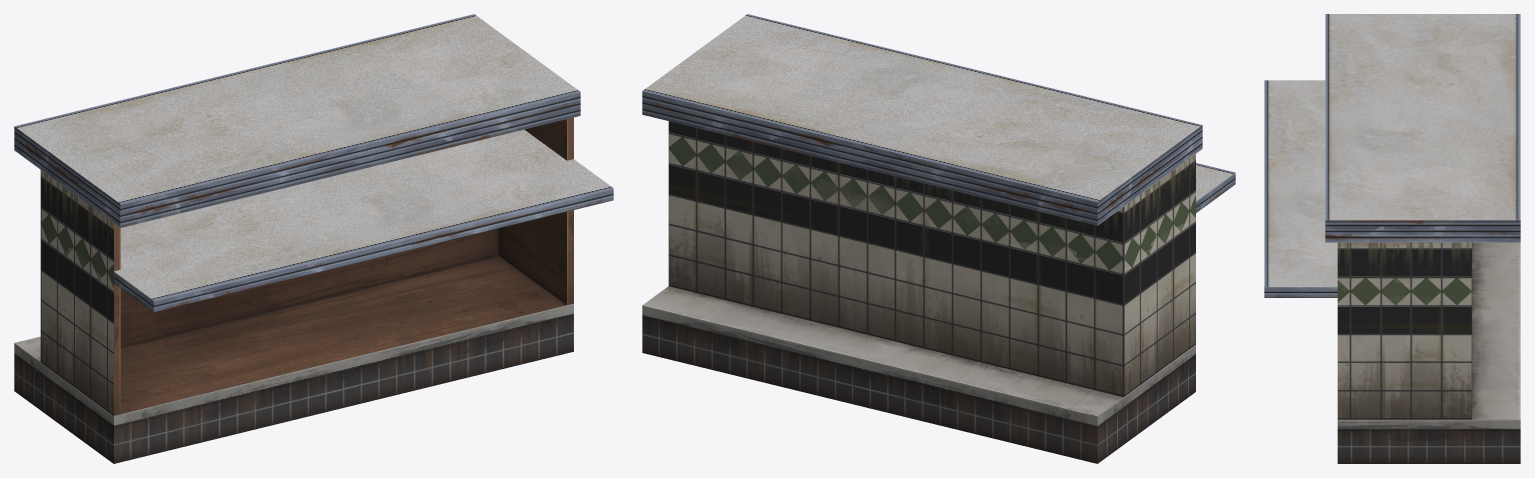
Rendered from KTB0110013.fbx.
The picture shows the model from 3 angles, left to right: view 1: azimuth 30°, elevation 25°; view 2: azimuth 150°, elevation 25°; view 3: azimuth 270°, elevation 25°; orthographic projection. The views are drawn at different scales.
Parts seen in each view (by area): view 1: smKTB0110013; view 2: smKTB0110013; view 3: smKTB0110013.
Part boxes in pixels (left/top/right/bottom): smKTB0110013: left=14, top=14, right=613, bottom=463; smKTB0110013: left=642, top=14, right=1235, bottom=463; smKTB0110013: left=1264, top=14, right=1520, bottom=463.
Size of the model in its own units: 200 by 110 by 105.
1 material, 1 textured.
